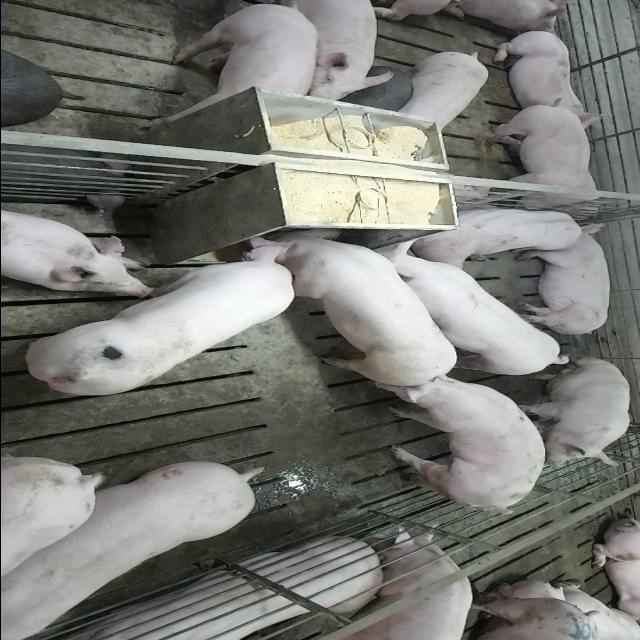Feeding: (22, 241, 300, 398), (257, 229, 464, 391)
Lateral_lying: (25, 539, 389, 640), (512, 222, 612, 337)
Sitting: (512, 354, 632, 466)
Standing: (2, 456, 266, 635), (356, 242, 572, 380), (372, 378, 548, 520), (157, 2, 321, 122), (466, 100, 606, 219), (338, 527, 474, 640), (272, 3, 394, 108), (392, 50, 488, 136)
Sternal_lying: (0, 206, 154, 294), (410, 203, 586, 265), (488, 29, 606, 119)
